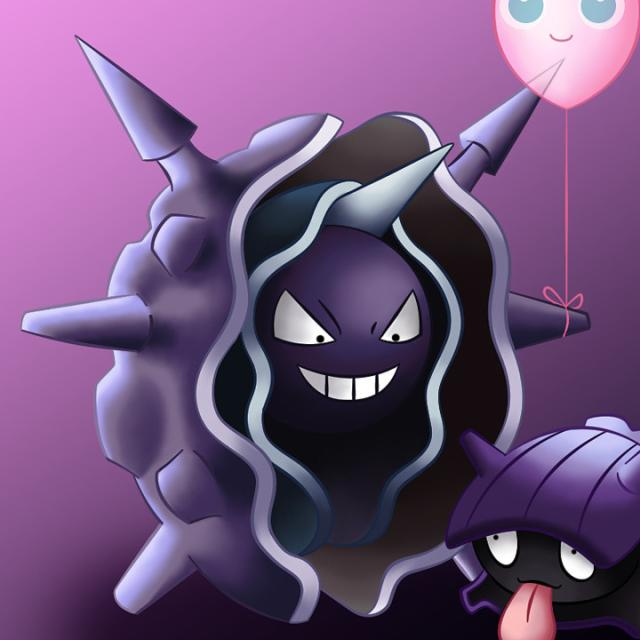Cloyster: (98, 78, 536, 612)
Shellder: (450, 420, 640, 640)
